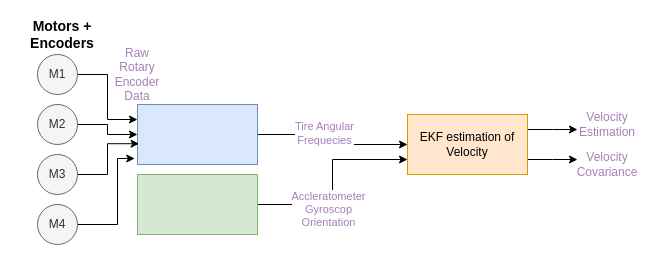
This 655x262 diagram has some shape labels left out. The centre of each missing label's shape, as x and y in pixels:
IMU: the point at 197,204
Rotary Encoders Sensing (x4): the point at 197,134
